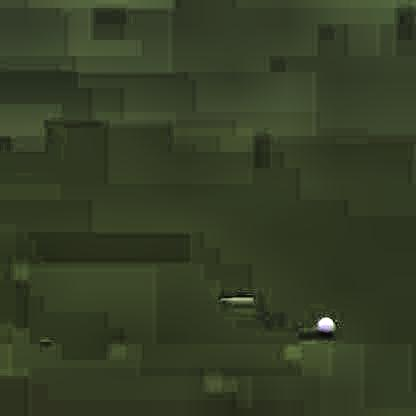golfball: (315, 313, 333, 336)
